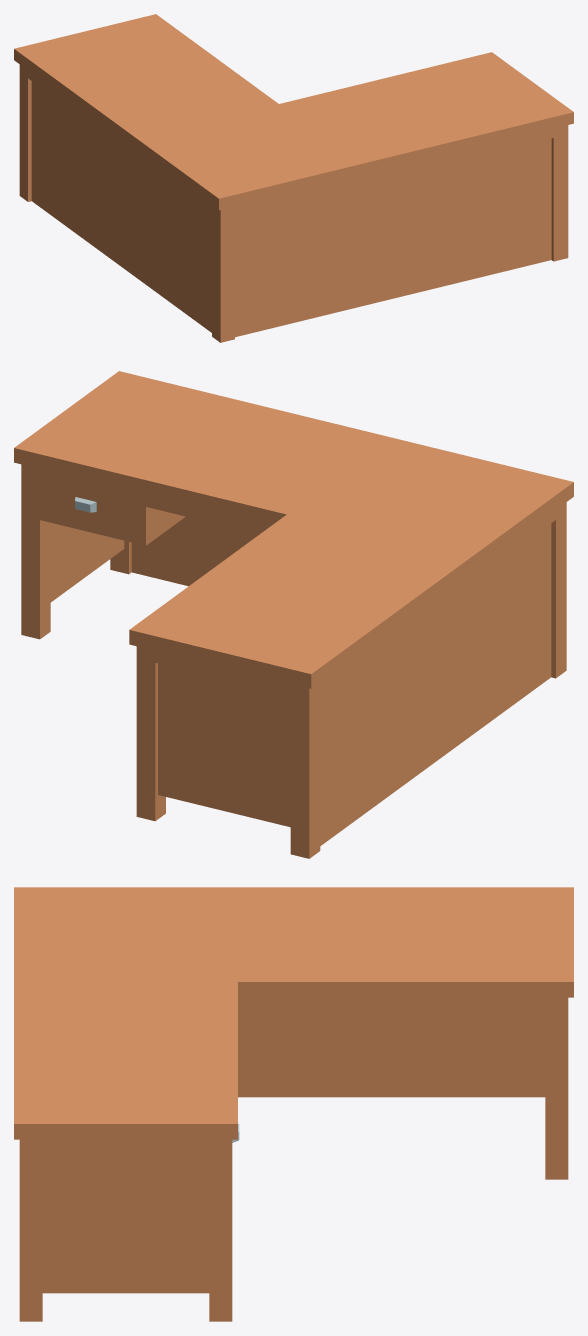
File: deskCorner.obj
The picture shows the model from 3 angles, top to bottom: view 1: azimuth 30°, elevation 25°; view 2: azimuth 150°, elevation 25°; view 3: azimuth 270°, elevation 25°; orthographic projection. The views are drawn at different scales.
Visible parts, largest first — view 1: deskCorner; view 2: deskCorner, drawer; view 3: deskCorner.
Part boxes in pixels (x1=…): deskCorner: x1=14, y1=14, x2=573, y2=342; deskCorner: x1=14, y1=371, x2=573, y2=858; drawer: x1=40, y1=481, x2=131, y2=527; deskCorner: x1=14, y1=887, x2=573, y2=1321.
Bounding box in the file's own units: 0.9745 × 0.3844 × 0.9745.
